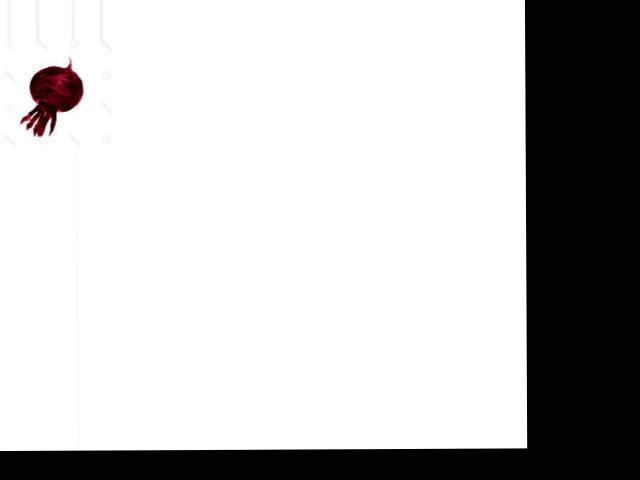beet: (20, 56, 83, 136)
